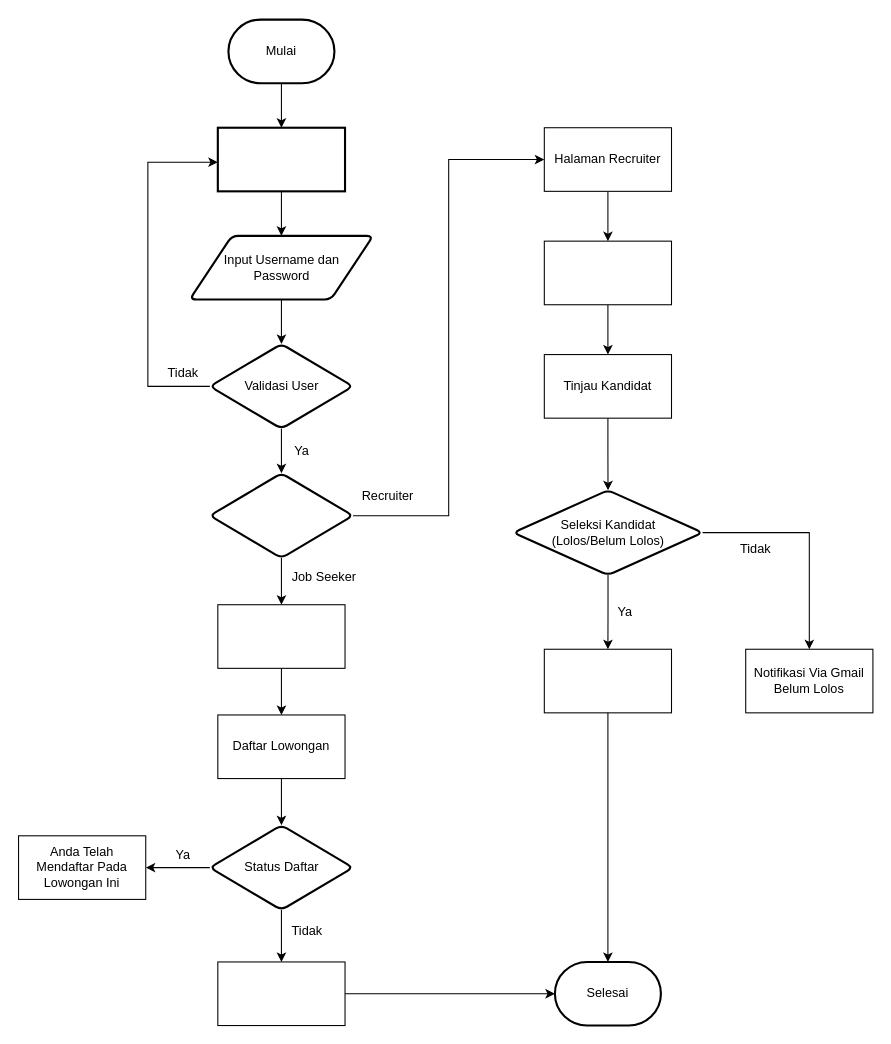
Image size: 891x1044. Some labels were removed from this diagram. Each missing label, with the centre of its shape:
Halaman Lowongan Pekerjaan: (x=281, y=636)
Kelola Lowongan: (x=607, y=272)
Login: (x=281, y=159)
Notifikasi Via Gmail Lolos: (x=607, y=680)
Pendaftaran Berhasil: (x=281, y=993)
Role: (x=281, y=515)
